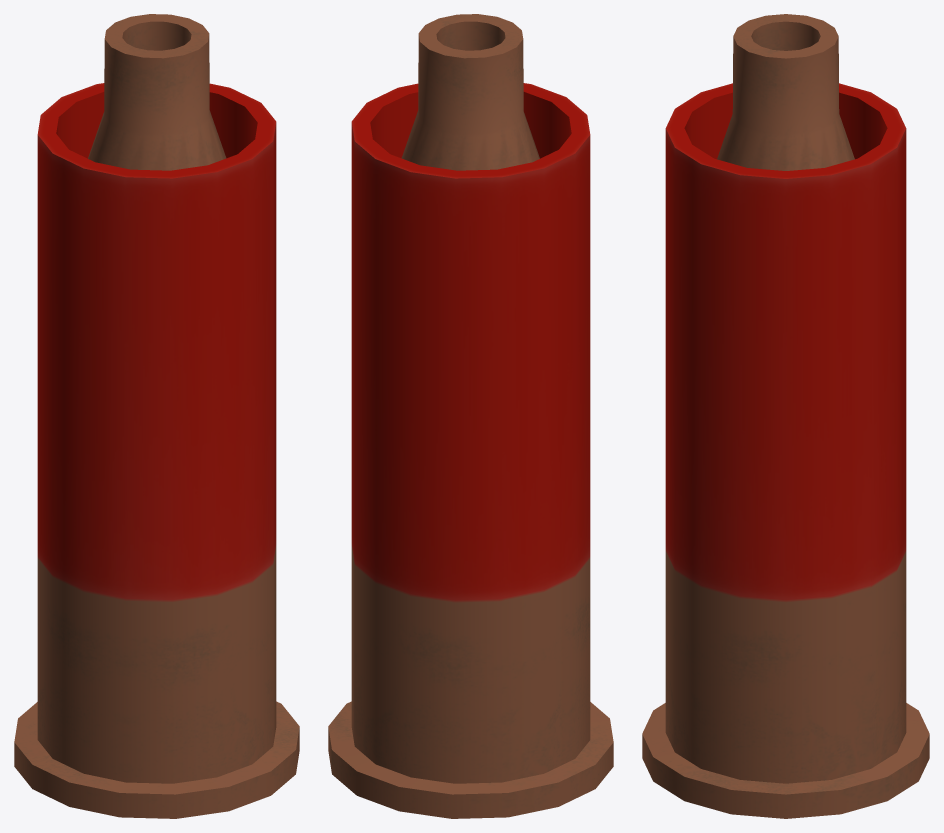
Rendered from Shells.fbx.
The picture shows the model from 3 angles, left to right: view 1: azimuth 30°, elevation 25°; view 2: azimuth 150°, elevation 25°; view 3: azimuth 270°, elevation 25°; orthographic projection.
Parts seen in each view (by area): view 1: 12 GA, 5.56mm; view 2: 12 GA, 5.56mm; view 3: 12 GA, 5.56mm.
Boxes of the visible parts, box(x1,y1,x2,y2) form: 12 GA: box(14, 83, 299, 818); 5.56mm: box(88, 14, 226, 170); 12 GA: box(328, 83, 613, 818); 5.56mm: box(401, 14, 539, 170); 12 GA: box(642, 83, 929, 818); 5.56mm: box(717, 14, 854, 170).
Bounding box in the file's own units: 163 × 457 × 163.
Materials: 2 (2 with a texture image).
